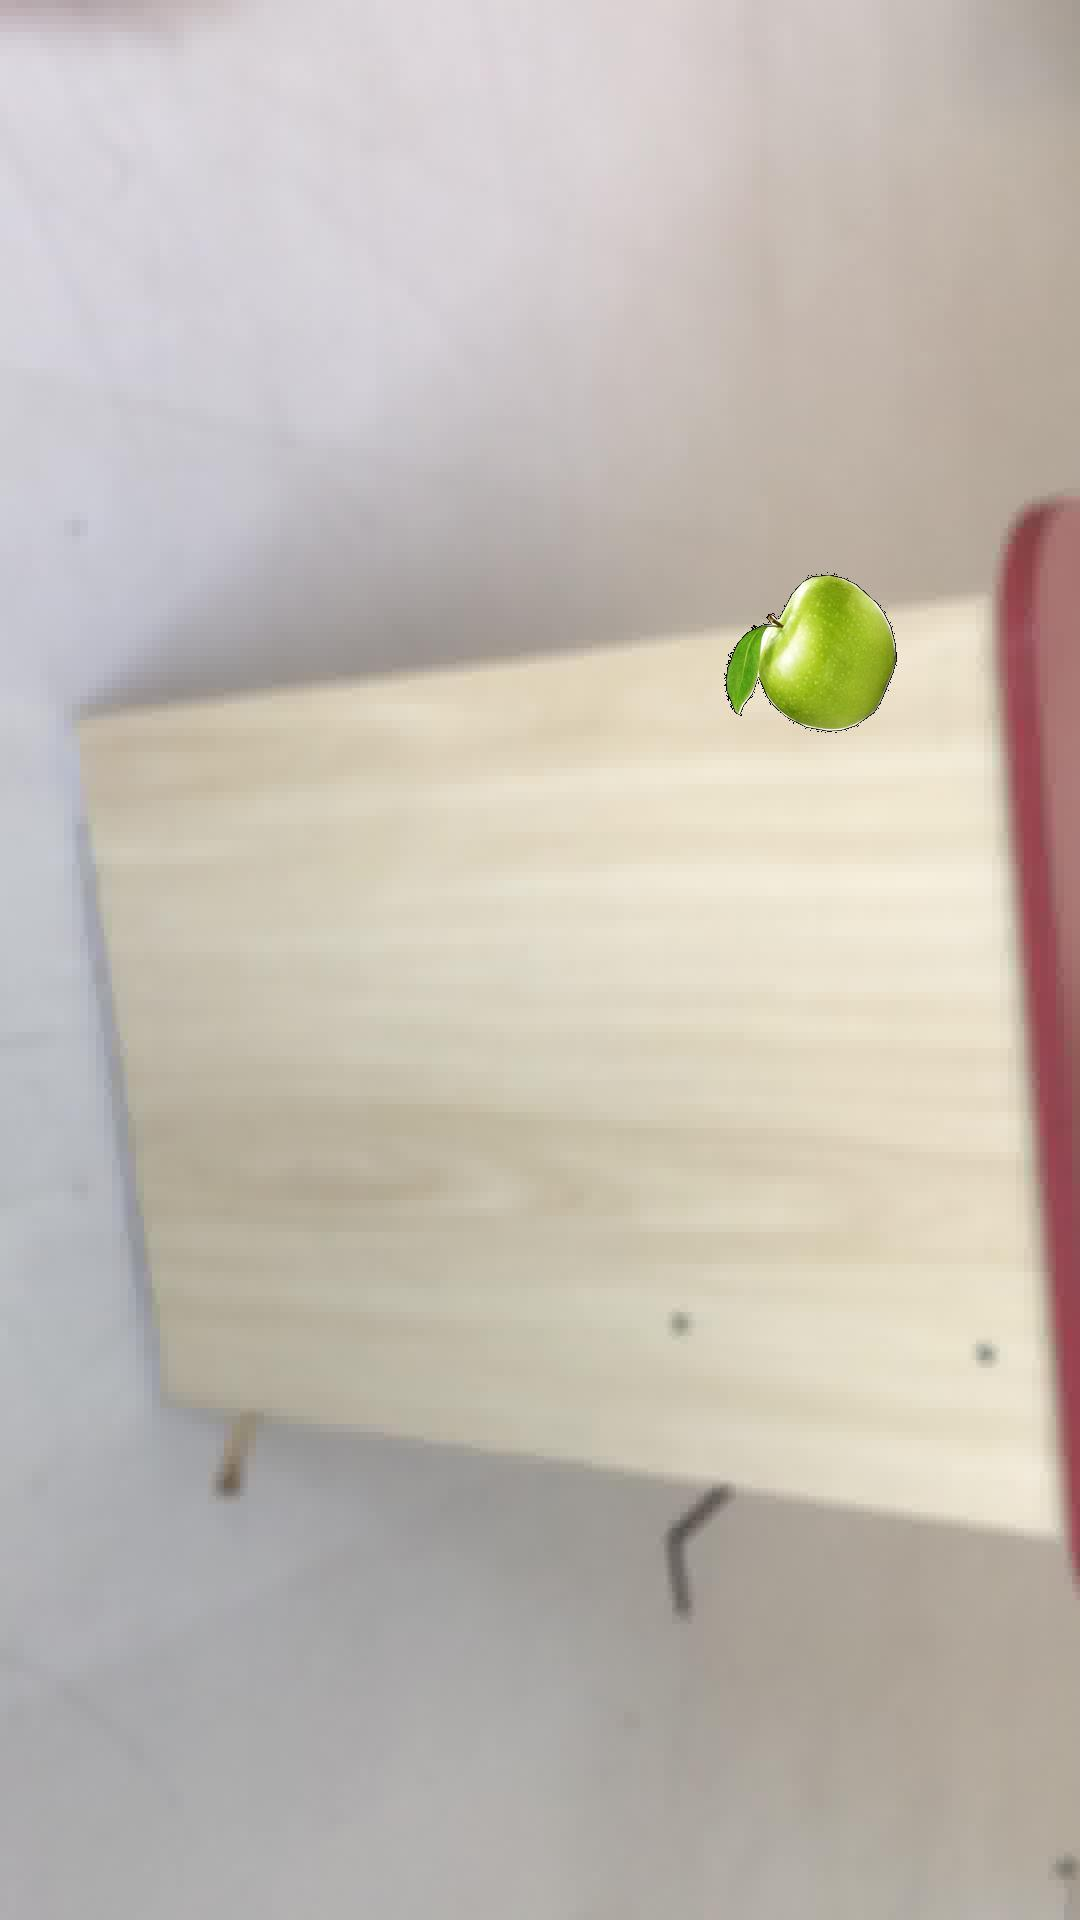green apple: (723, 572, 895, 731)
